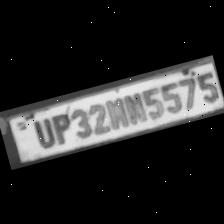2: (85, 97, 112, 136)
3: (66, 104, 93, 140)
5: (192, 66, 222, 105), (157, 78, 185, 114), (138, 84, 164, 121)
7: (174, 73, 200, 111)
M: (102, 93, 128, 131)
N: (121, 89, 146, 126)
P: (47, 109, 74, 145)
U: (29, 115, 57, 150)
